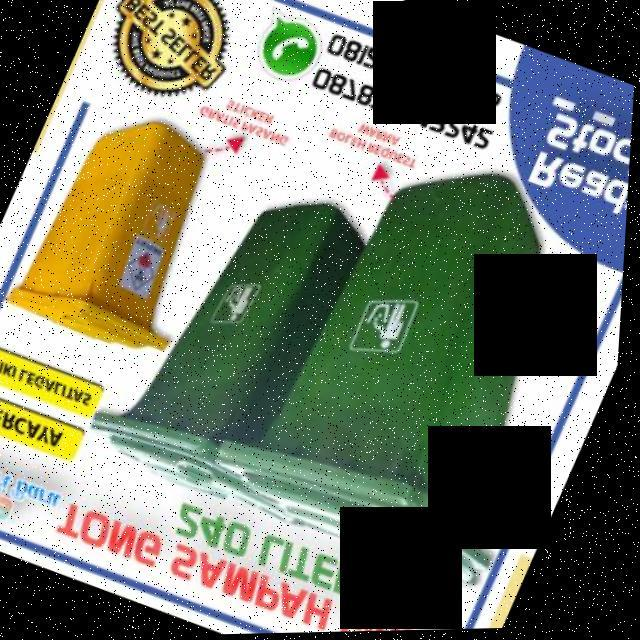bin: (198, 117, 634, 605), (72, 153, 380, 531), (0, 85, 259, 372)
